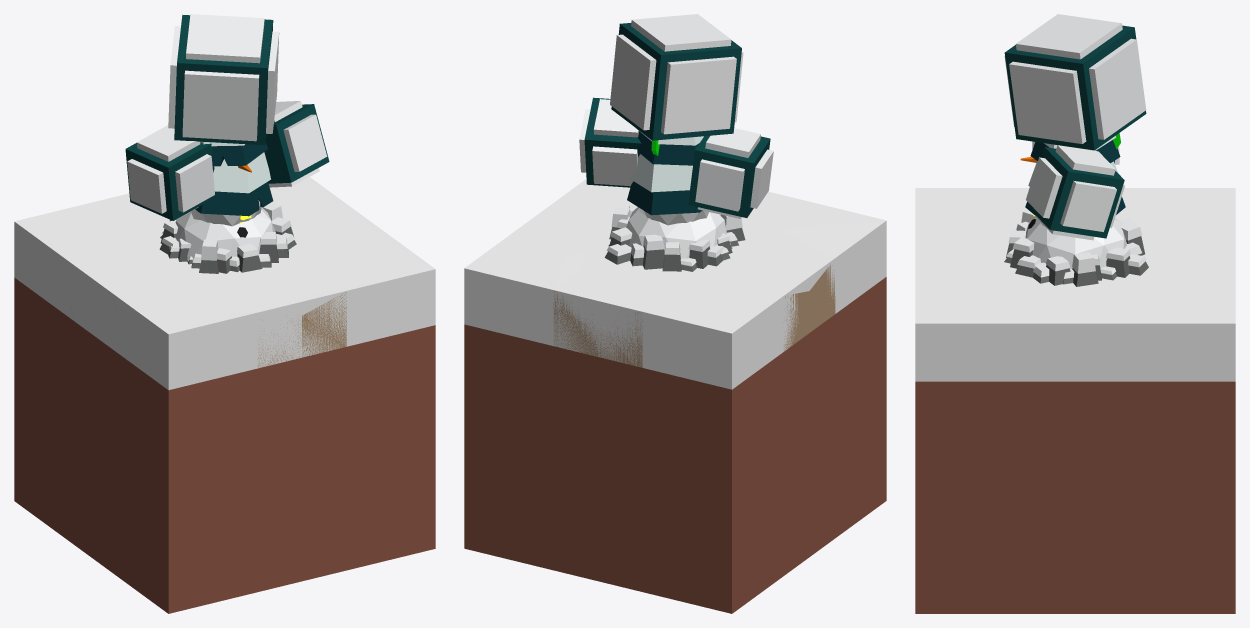
File: full_env_fixed.glb
3 views of the same model, side by side, from view 1: azimuth 30°, elevation 25°; view 2: azimuth 150°, elevation 25°; view 3: azimuth 270°, elevation 25° (orthographic). The views are drawn at different scales.
Visible parts, largest first — view 1: Ground_Base, Ground_Road_Straight, Ground_Road_Corner, Ground_Corner, Mesh_Tree_Secamore, Mesh_Tree_Fir, Mesh_Campfire_Empty, Mesh_Snowman; view 2: Ground_Base, Ground_Road_Corner, Ground_Road_Straight, Mesh_Tree_Secamore, Ground_Corner, Mesh_Tree_Fir, Mesh_Campfire_Empty, Mesh_Snowman; view 3: Ground_Base, Ground_Corner, Ground_Road_Corner, Mesh_Tree_Secamore, Mesh_Campfire_Empty, Ground_Road_Straight, Mesh_Snowman, Mesh_Tree_Fir.
Part boxes in pixels (x1=…): Ground_Base: x1=14, y1=177, x2=435, y2=613; Ground_Road_Straight: x1=16, y1=177, x2=435, y2=612; Ground_Road_Corner: x1=14, y1=178, x2=435, y2=612; Ground_Corner: x1=16, y1=177, x2=377, y2=613; Mesh_Tree_Secamore: x1=125, y1=14, x2=329, y2=220; Mesh_Tree_Fir: x1=195, y1=141, x2=273, y2=216; Mesh_Campfire_Empty: x1=159, y1=202, x2=296, y2=273; Mesh_Snowman: x1=175, y1=165, x2=275, y2=261; Ground_Base: x1=464, y1=179, x2=886, y2=613; Ground_Road_Corner: x1=464, y1=179, x2=886, y2=612; Ground_Road_Straight: x1=464, y1=179, x2=884, y2=612; Mesh_Tree_Secamore: x1=579, y1=14, x2=773, y2=218; Ground_Corner: x1=465, y1=186, x2=884, y2=333; Mesh_Tree_Fir: x1=627, y1=128, x2=703, y2=215; Mesh_Campfire_Empty: x1=604, y1=205, x2=745, y2=271; Mesh_Snowman: x1=626, y1=207, x2=726, y2=258; Ground_Base: x1=915, y1=188, x2=1235, y2=613; Ground_Corner: x1=915, y1=188, x2=1235, y2=613; Ground_Road_Corner: x1=915, y1=188, x2=1235, y2=613; Mesh_Tree_Secamore: x1=1004, y1=14, x2=1146, y2=240; Mesh_Campfire_Empty: x1=1004, y1=209, x2=1148, y2=286; Ground_Road_Straight: x1=915, y1=188, x2=1235, y2=323; Mesh_Snowman: x1=1020, y1=156, x2=1126, y2=268; Mesh_Tree_Fir: x1=1025, y1=136, x2=1125, y2=215.
Bounding box in the file's own units: 2 × 3.56 × 2.
Materials: 1 (1 with a texture image).
